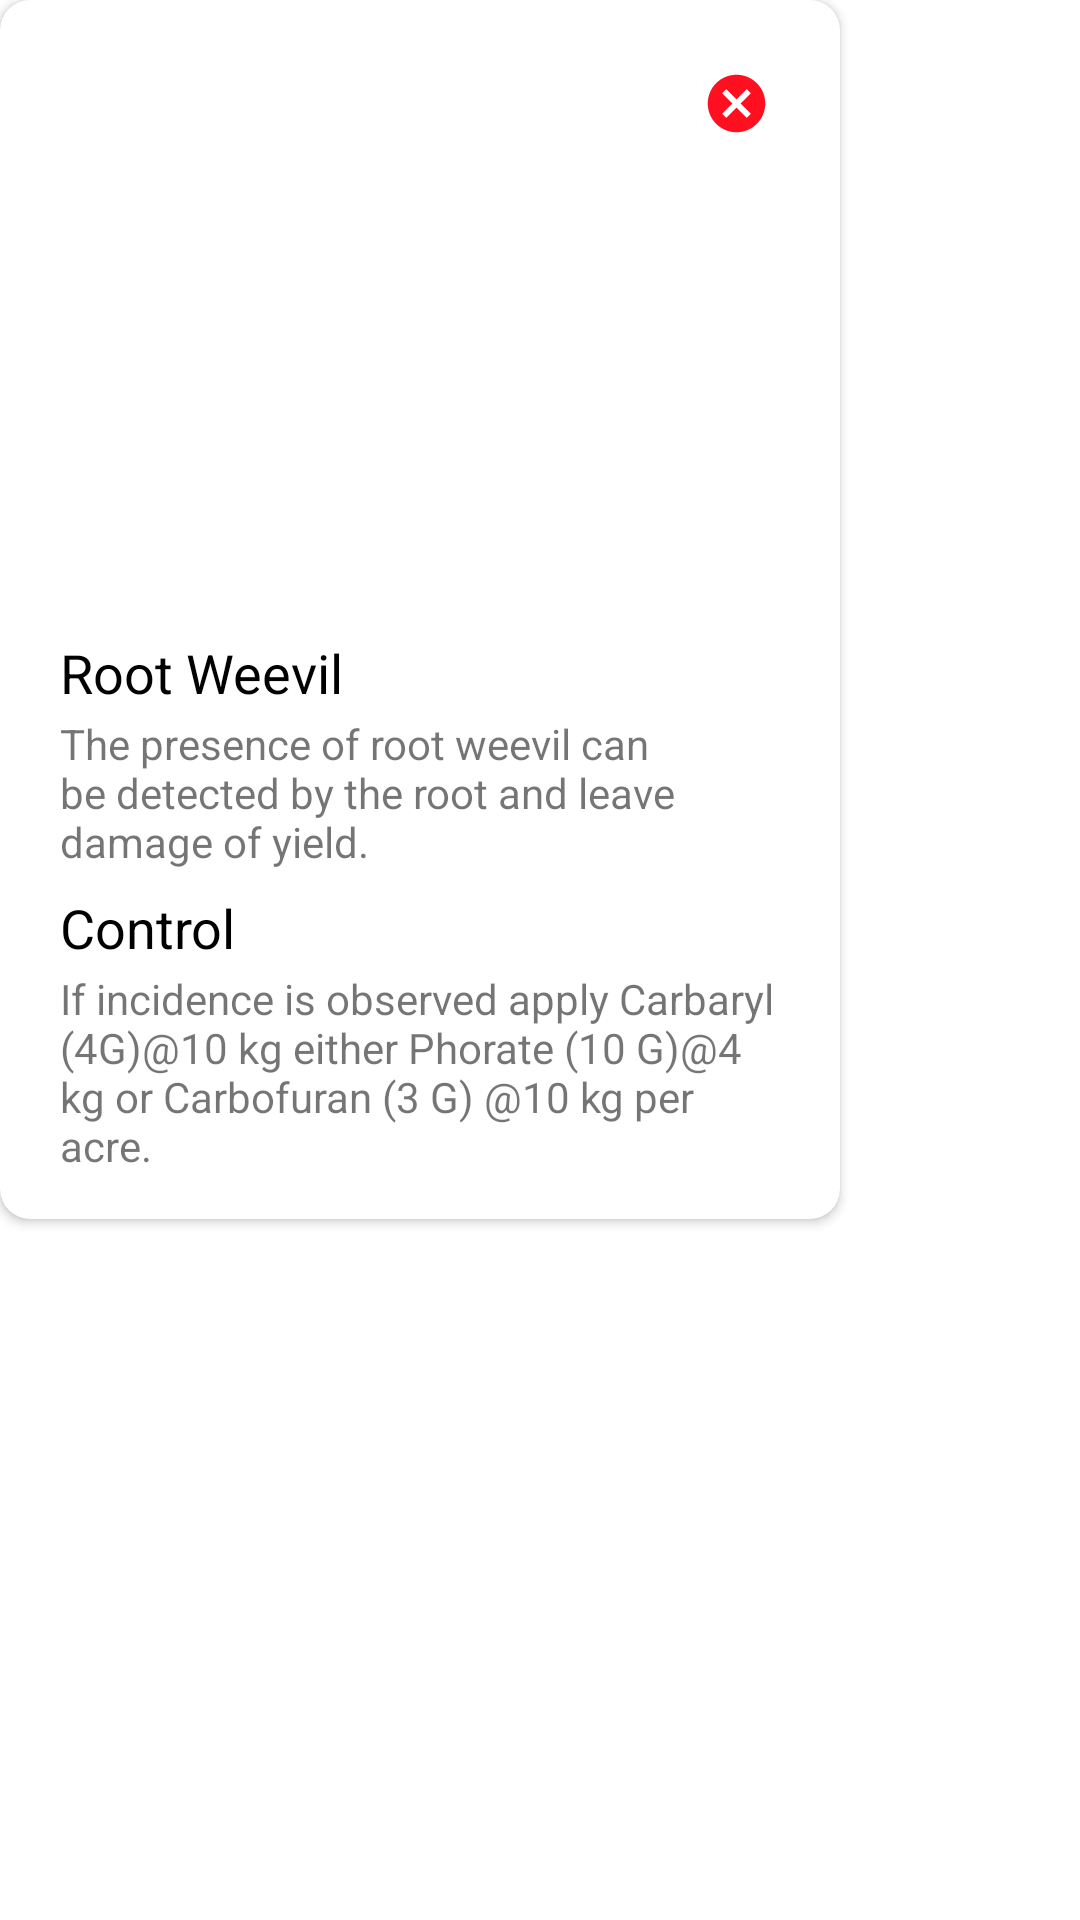

Screen size 1080px×1920px. Icon name, then its center in pixels as point (x, y):
cancel: point (736, 103)
